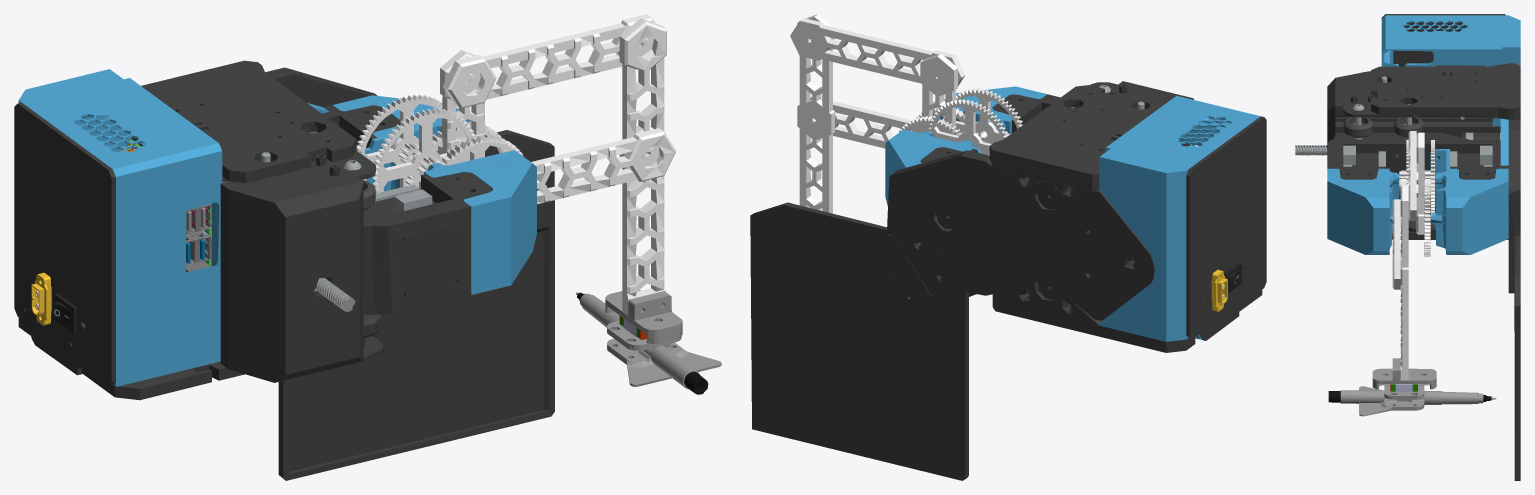
Rendered from rig.glb.
3 renders of one model, left to right at view 1: azimuth 30°, elevation 25°; view 2: azimuth 150°, elevation 25°; view 3: azimuth 270°, elevation 25°, orthographic. The views are drawn at different scales.
Parts seen in each view (by area): view 1: root_base, Component12_1, Component3_1, Component4_1, Component2_1, Component11_1, Component14_1, Sharpie_Pen_1, Component16_1; view 2: root_base, Component12_1, Component3_1, Component2_1, Component4_1; view 3: root_base, Component12_1, Sharpie_Pen_1, Component2_1, Component11_1, Component4_1, Component14_1, Component3_1, Component16_1.
Boxes of the visible parts, x1,y1,x2,y2 form: root_base: (14, 60, 554, 480); Component12_1: (619, 18, 666, 315); Component3_1: (443, 14, 654, 108); Component4_1: (440, 128, 676, 204); Component2_1: (405, 50, 507, 187); Component11_1: (605, 290, 682, 343); Component14_1: (607, 338, 721, 386); Sharpie_Pen_1: (576, 292, 708, 394); Component16_1: (607, 320, 681, 351); root_base: (750, 81, 1266, 480); Component12_1: (797, 14, 834, 213); Component3_1: (790, 18, 965, 86); Component2_1: (897, 53, 962, 135); Component4_1: (810, 95, 976, 148); root_base: (1295, 14, 1520, 480); Component12_1: (1400, 185, 1408, 380); Sharpie_Pen_1: (1328, 390, 1496, 404); Component2_1: (1416, 132, 1430, 256); Component11_1: (1372, 358, 1436, 389); Component4_1: (1392, 178, 1406, 289); Component14_1: (1359, 386, 1424, 416); Component3_1: (1408, 131, 1416, 220); Component16_1: (1384, 385, 1424, 399).
Bounding box in the file's own units: 0.3625 × 0.2604 × 0.1786.
